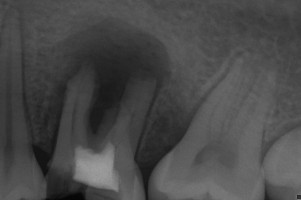Dental Caries: (47, 18, 173, 134)
